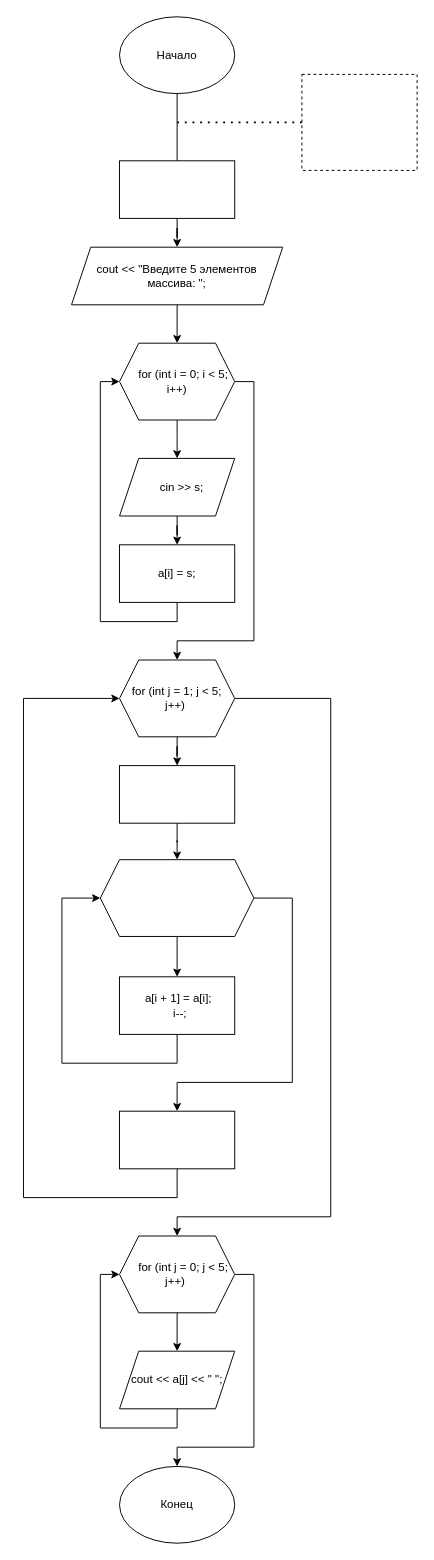
The diagram is 434 pixels wide and 1560 high, and some of its shapes have lost their labels. Each missing label, with the box of its shape:
#include<iostream> using namespace std; int main(){ setlocale(LC_ALL, "rus"); }: (301, 73, 417, 170)
a[i + 1] = tmp;: (119, 1110, 235, 1169)
int tmp, s, a[5];: (119, 160, 235, 218)
tmp = a[j]; int i = j - 1;: (119, 765, 235, 823)
while (i >= 0 && a[i] > tmp): (99, 859, 254, 936)
